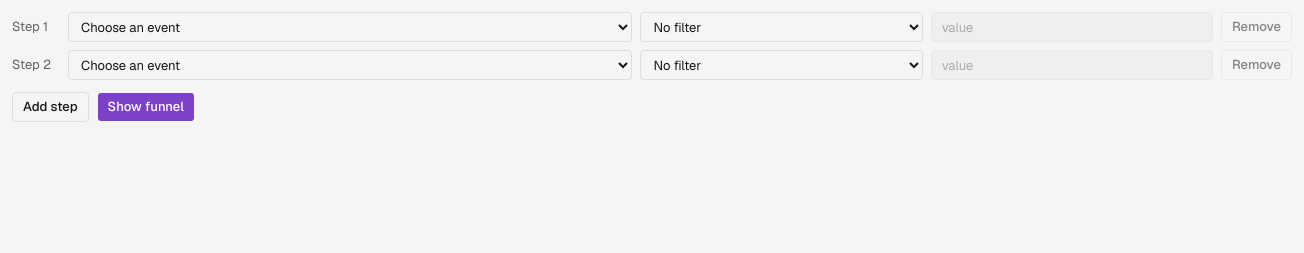
FunnelEditor › 2 to 5 rows
This screenshot has width=1304, height=253.
Expected: the button with aria-label "Remove step" is disabled, [1221, 12, 1292, 42]
What coordinates should you click on to do the following:
click the button "Add step"
I would click on:
 (50, 107)
Its box is [12, 92, 88, 122].
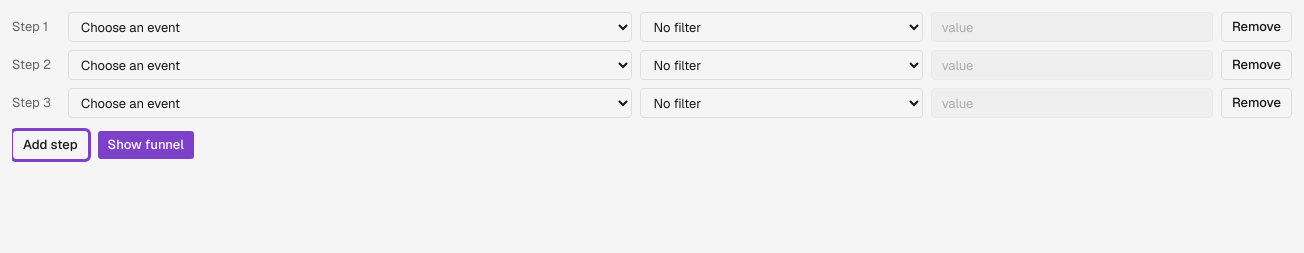
What coordinates should you click on to do the following:
click the button "Add step"
I would click on:
 (50, 145)
Its box is [12, 130, 88, 160].
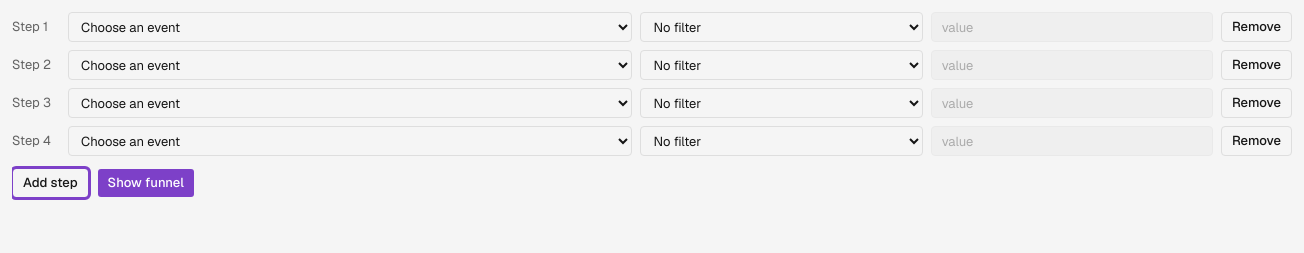
What coordinates should you click on to do the following:
click the button "Add step"
I would click on:
 (50, 183)
Its box is [12, 168, 88, 198].
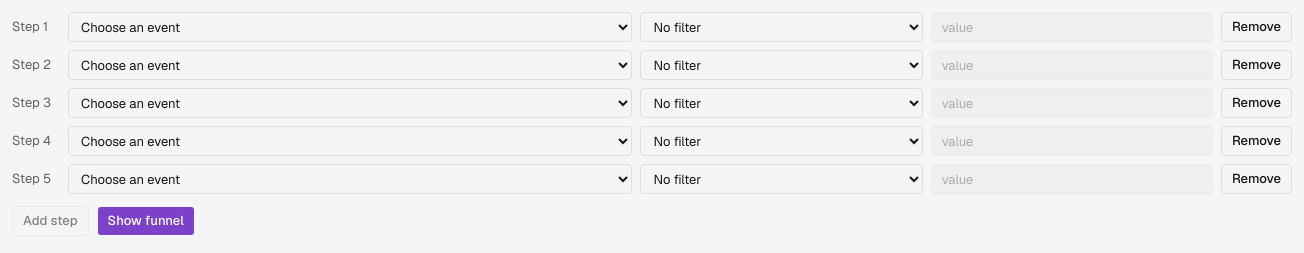
Expected: the button with aria-label "Remove step" is enabled, [1221, 12, 1292, 42]
Expected: the button "Add step" is disabled, [12, 206, 88, 236]
